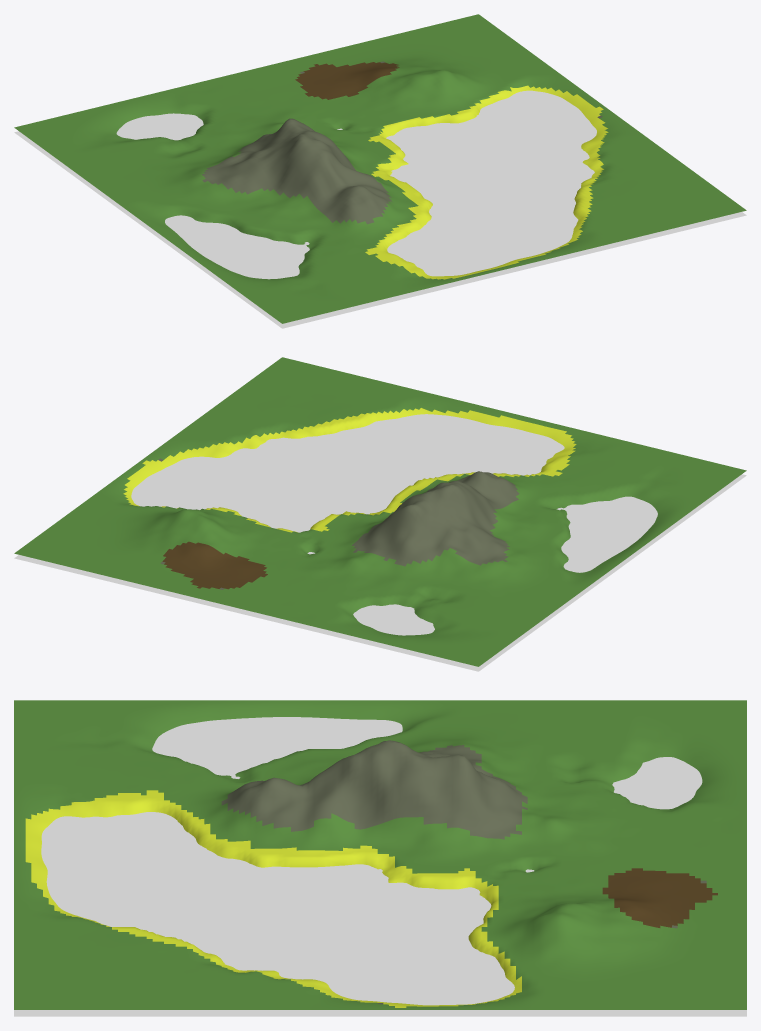
The model's file is testfbx.fbx.
3 renders of one model, top to bottom at view 1: azimuth 30°, elevation 25°; view 2: azimuth 150°, elevation 25°; view 3: azimuth 270°, elevation 25°, orthographic. The views are drawn at different scales.
Visible parts, largest first — view 1: Landscape.004, Landscape_plane.002; view 2: Landscape.004, Landscape_plane.002; view 3: Landscape.004, Landscape_plane.002.
Boxes of the visible parts, bbox=[...] form: Landscape.004: bbox=[14, 14, 746, 323]; Landscape_plane.002: bbox=[14, 90, 746, 328]; Landscape.004: bbox=[14, 357, 746, 666]; Landscape_plane.002: bbox=[14, 414, 746, 671]; Landscape.004: bbox=[14, 700, 746, 1009]; Landscape_plane.002: bbox=[14, 717, 746, 1016].
Size of the model in its own units: 200 by 44.1 by 200.
